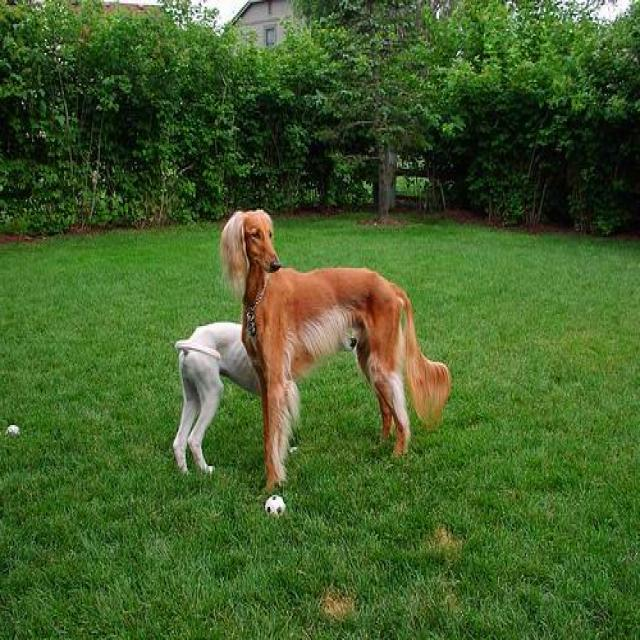saluki: (222, 208, 450, 498)
